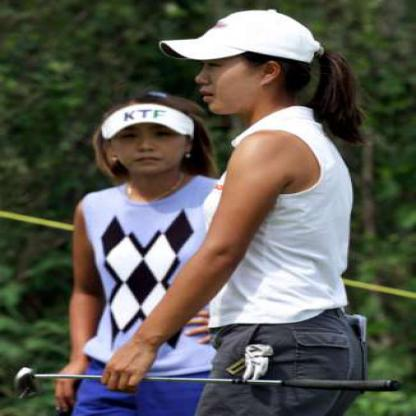face: (191, 17, 268, 117), (111, 101, 191, 176)
